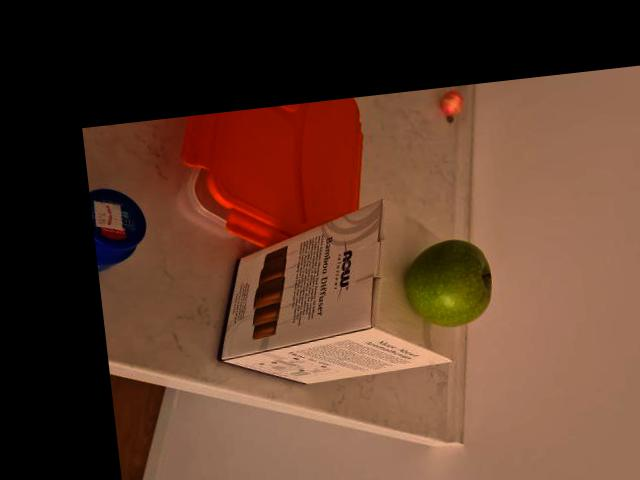apple: (398, 243, 499, 330)
